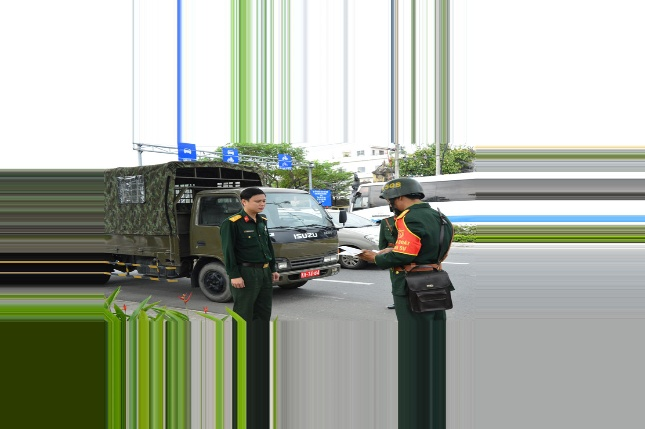plate: (296, 267, 321, 281)
